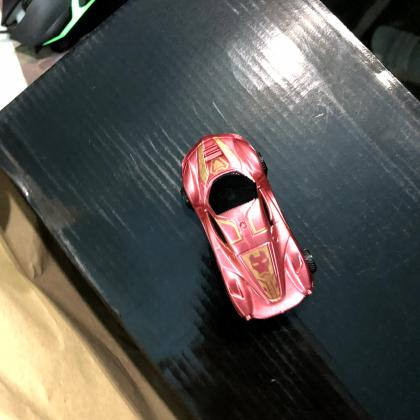Car: (180, 130, 320, 323)
